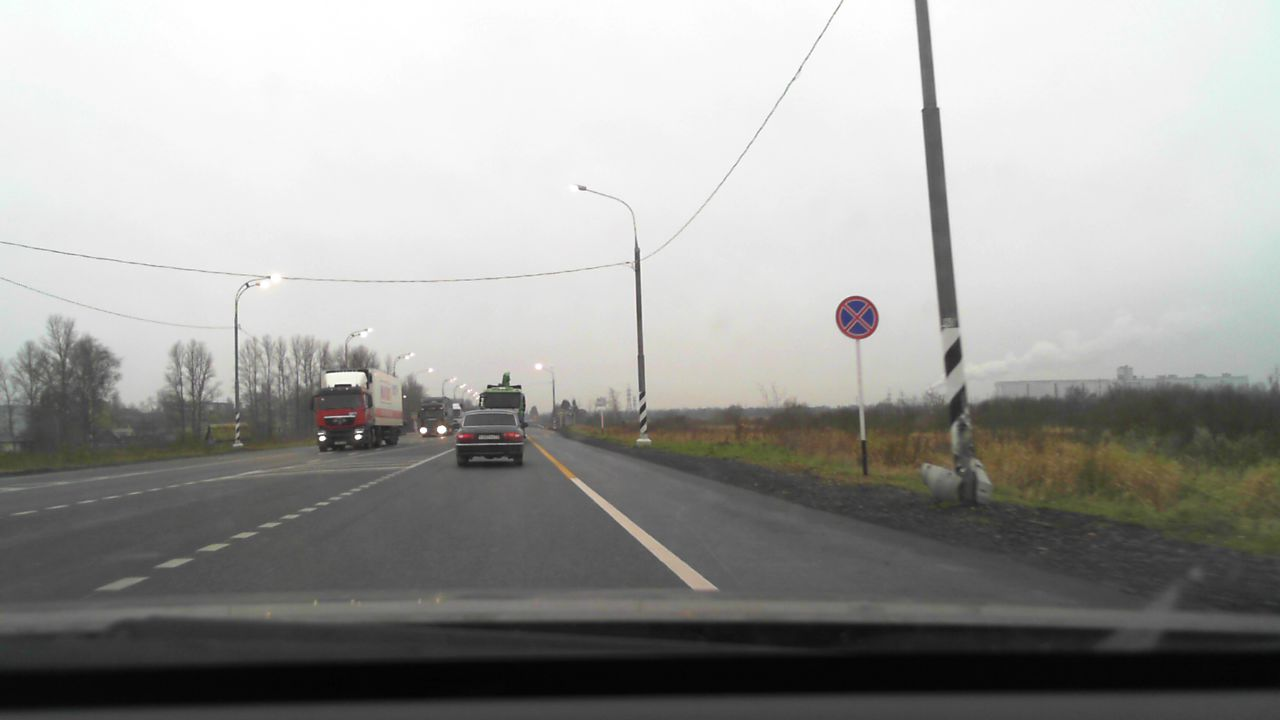No Parking: (835, 295, 879, 339)
